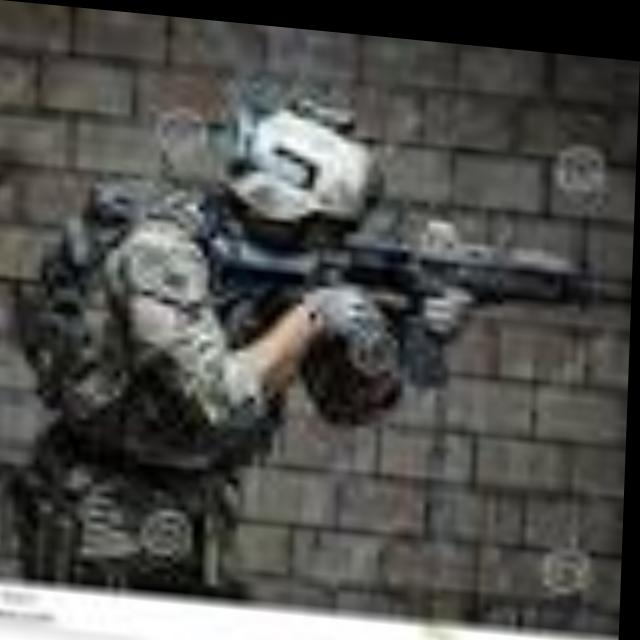other: (32, 51, 434, 586)
